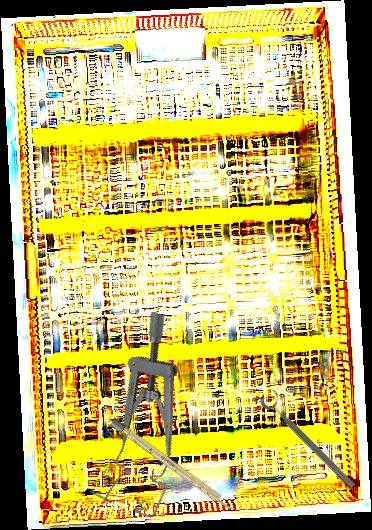Fixation Ring: (258, 387, 363, 492)
Scalpel Handle: (109, 417, 237, 514)
Speculum: (73, 309, 230, 522)
